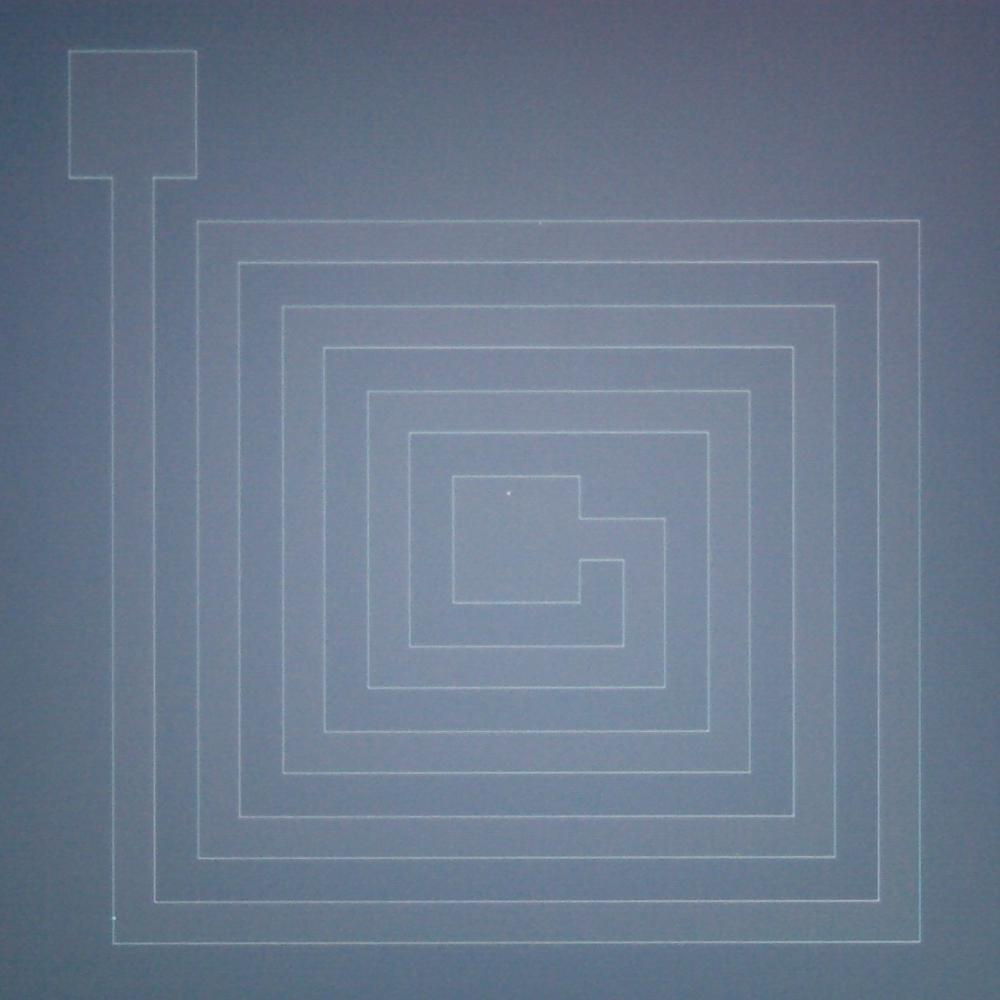dot: (507, 491, 511, 495)
